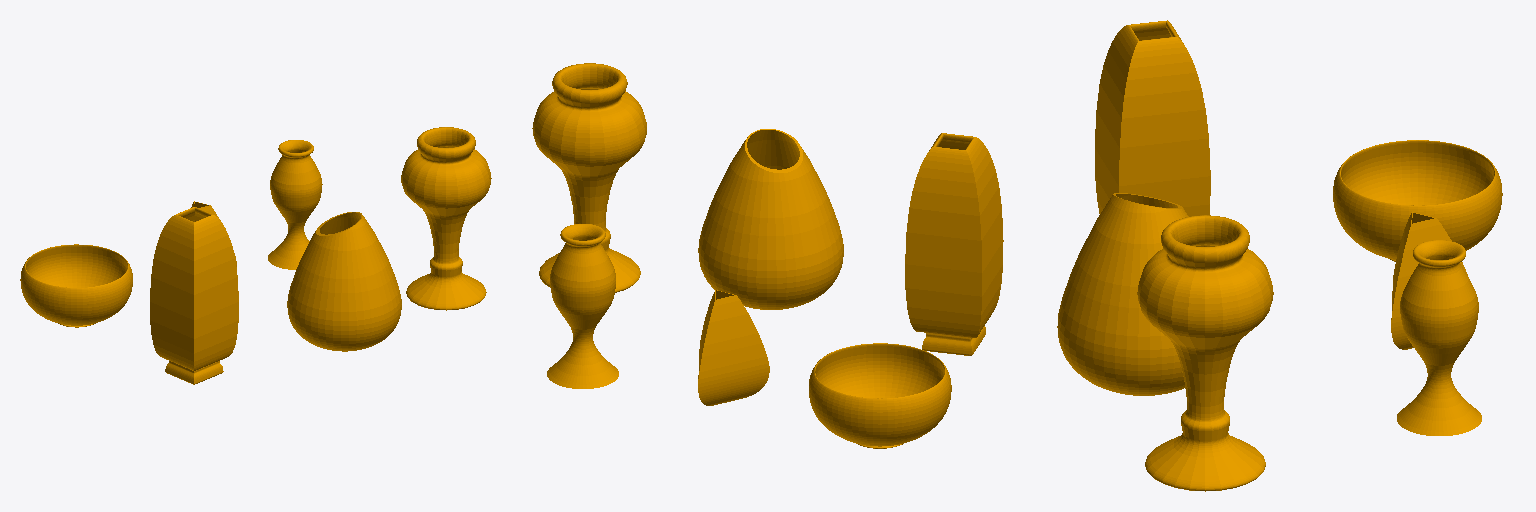
The robot description file, URDF, robot "vases":
<robot name="vases">
  <link name="vases">
    <inertial>
      <origin xyz="0 0 0.0145"/>
      <mass value="0.1" />
      <inertia  ixx="0.0001" ixy="0.0"  ixz="0.0"  iyy="0.0001"  iyz="0.0"  izz="0.0001" />
    </inertial>
    <visual>
      <origin xyz="0 0 0.0145"/>
      <geometry>        
     <mesh filename="vases.dae" scale="1 1 1"/>
    </geometry>
    </visual>
    <collision>
      <origin xyz="0 0 0.0145"/>
      <geometry>
        <box size="0.029 0.029 0.029"/>
      </geometry>
    </collision>
  </link>
  <gazebo reference="vases">
    <material>Gazebo/Blue</material>
  </gazebo>
</robot>

--- What the picture shows (computed from the rendered views, not written in the file) ---
3 views of the same robot in one strip: view 1: azimuth 30°, elevation 25°; view 2: azimuth 150°, elevation 25°; view 3: azimuth 270°, elevation 25° (orthographic).
Robot: vases — 1 links, 0 joints (none); root link vases; default pose: all joints at 0.
Visible links, largest first — view 1: vases; view 2: vases; view 3: vases.
Boxes of the visible links, x1=… form: vases: x1=20, y1=127, x2=491, y2=384; vases: x1=532, y1=63, x2=1003, y2=448; vases: x1=1057, y1=20, x2=1502, y2=491.
Size in the robot's own frame: 0.8534 by 0.5646 by 0.34 metres.
1 mesh visuals loaded from 1 distinct referenced files (1 Collada DAE).